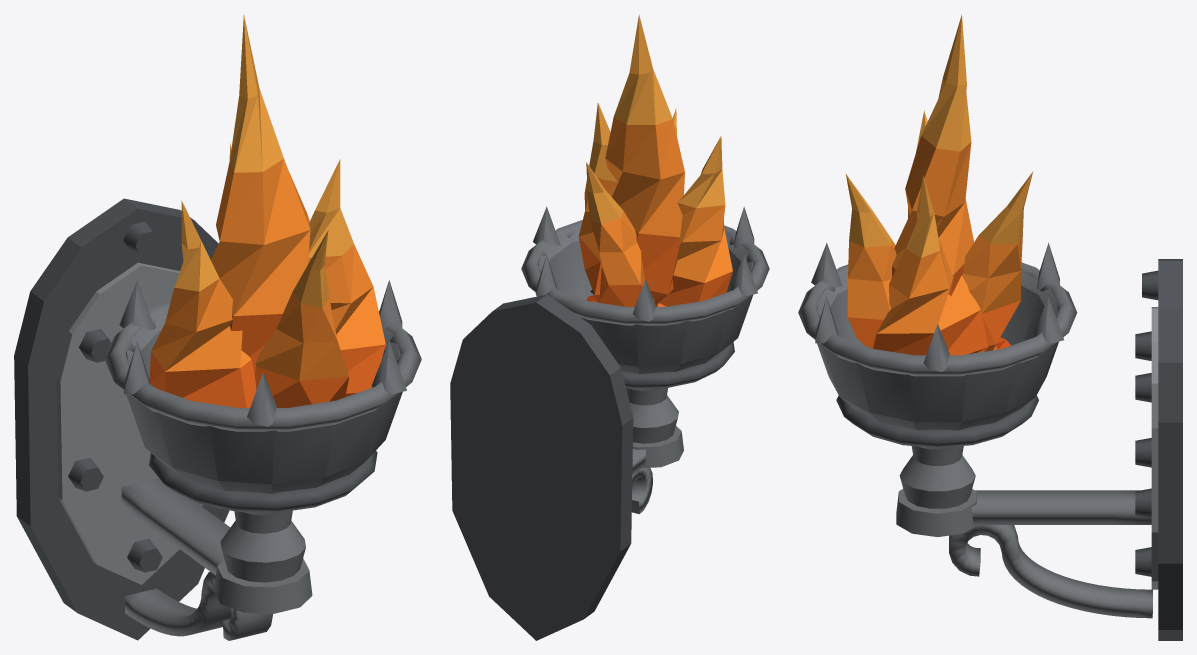
The model's file is SM_LPD_Light_SconceIronLit_01.fbx.
3 views of the same model, side by side, from view 1: azimuth 30°, elevation 25°; view 2: azimuth 150°, elevation 25°; view 3: azimuth 270°, elevation 25° (orthographic). The views are drawn at different scales.
Parts seen in each view (by area): view 1: SM_LPD_Light_SconceIronLit_01; view 2: SM_LPD_Light_SconceIronLit_01; view 3: SM_LPD_Light_SconceIronLit_01.
Boxes of the visible parts, x1,y1,x2,y2 form: SM_LPD_Light_SconceIronLit_01: (14, 15, 421, 640); SM_LPD_Light_SconceIronLit_01: (450, 14, 769, 640); SM_LPD_Light_SconceIronLit_01: (798, 14, 1182, 640).
Bounding box in the file's own units: 0.2112 × 0.506 × 0.2825.
